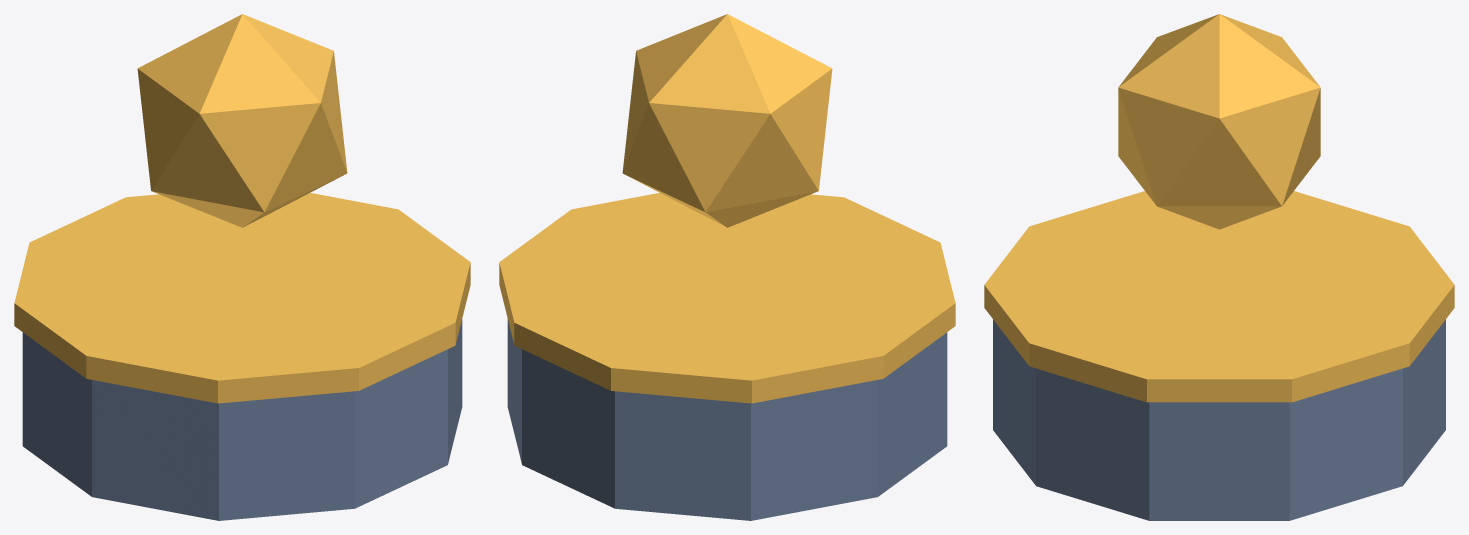
File: shrine.glb
The picture shows the model from 3 angles, left to right: view 1: azimuth 30°, elevation 25°; view 2: azimuth 150°, elevation 25°; view 3: azimuth 270°, elevation 25°; orthographic projection.
Parts seen in each view (by area): view 1: Gold rim, Pedestal, Upgrade orb; view 2: Gold rim, Pedestal, Upgrade orb; view 3: Gold rim, Pedestal, Upgrade orb.
Part boxes in pixels (x1,y1,x2,y2): Gold rim: [14, 193, 470, 403]; Pedestal: [22, 319, 462, 520]; Upgrade orb: [137, 14, 347, 227]; Gold rim: [499, 193, 955, 403]; Pedestal: [507, 319, 947, 520]; Upgrade orb: [622, 14, 832, 227]; Gold rim: [984, 191, 1454, 402]; Pedestal: [993, 319, 1445, 520]; Upgrade orb: [1118, 14, 1320, 229].
Size of the model in its own units: 1.58 by 1.62 by 1.66.
